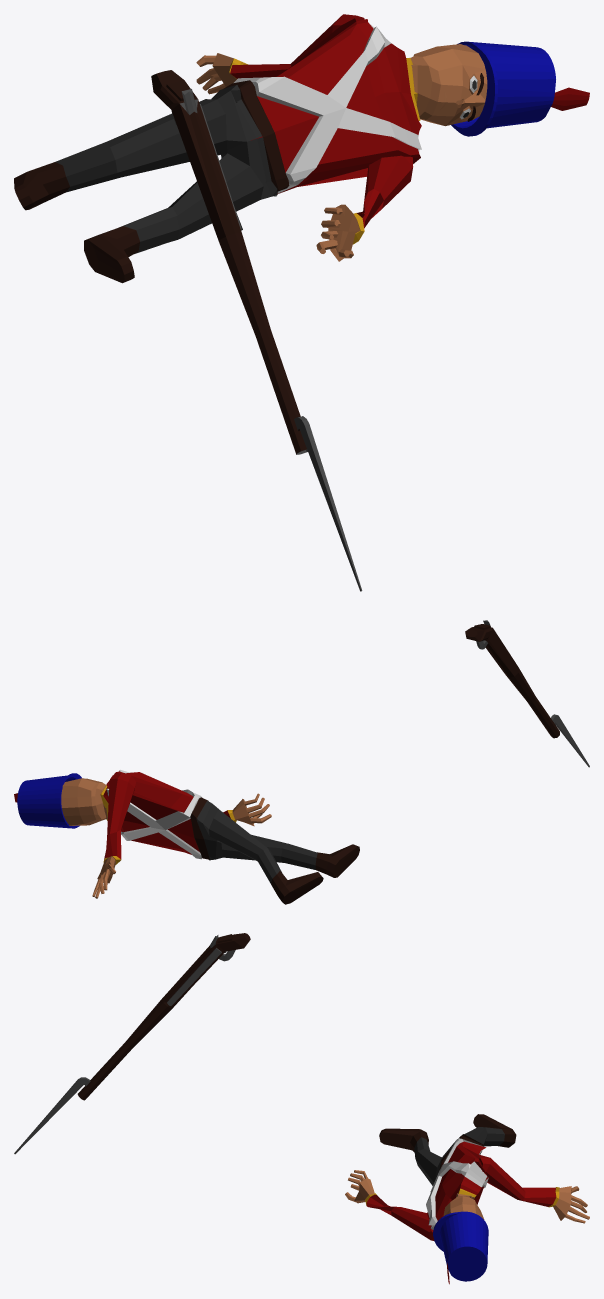
Rendered from Frame3.obj.
The picture shows the model from 3 angles, top to bottom: view 1: azimuth 30°, elevation 25°; view 2: azimuth 150°, elevation 25°; view 3: azimuth 270°, elevation 25°; orthographic projection. The views are drawn at different scales.
Parts seen in each view (by area): view 1: {Man}_Circle, {Mesket}_Cube.001; view 2: {Man}_Circle, {Mesket}_Cube.001; view 3: {Man}_Circle, {Mesket}_Cube.001.
Part boxes in pixels (bbox=[...]): {Man}_Circle: bbox=[14, 14, 589, 283]; {Mesket}_Cube.001: bbox=[151, 70, 362, 591]; {Man}_Circle: bbox=[14, 769, 359, 904]; {Mesket}_Cube.001: bbox=[465, 620, 589, 767]; {Man}_Circle: bbox=[345, 1114, 589, 1284]; {Mesket}_Cube.001: bbox=[14, 933, 250, 1154].
Size of the model in its own units: 18.72 by 10.99 by 26.07.
